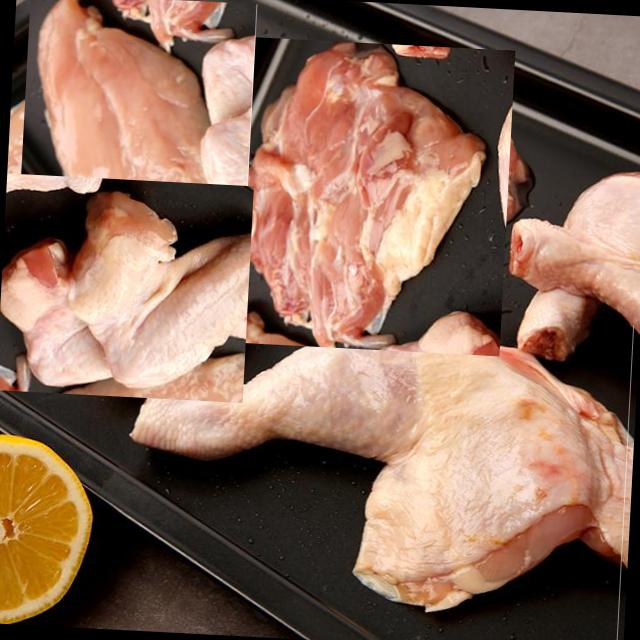chicken: (116, 299, 634, 640), (218, 44, 524, 350), (10, 0, 263, 252), (0, 173, 255, 404)
